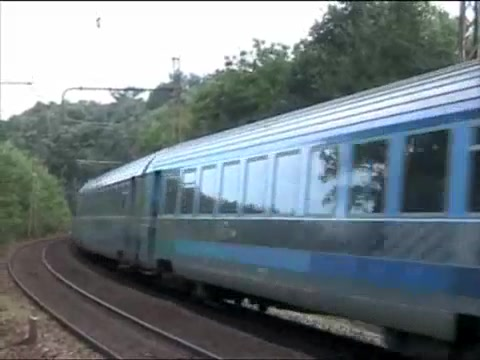train: (68, 61, 480, 345)
